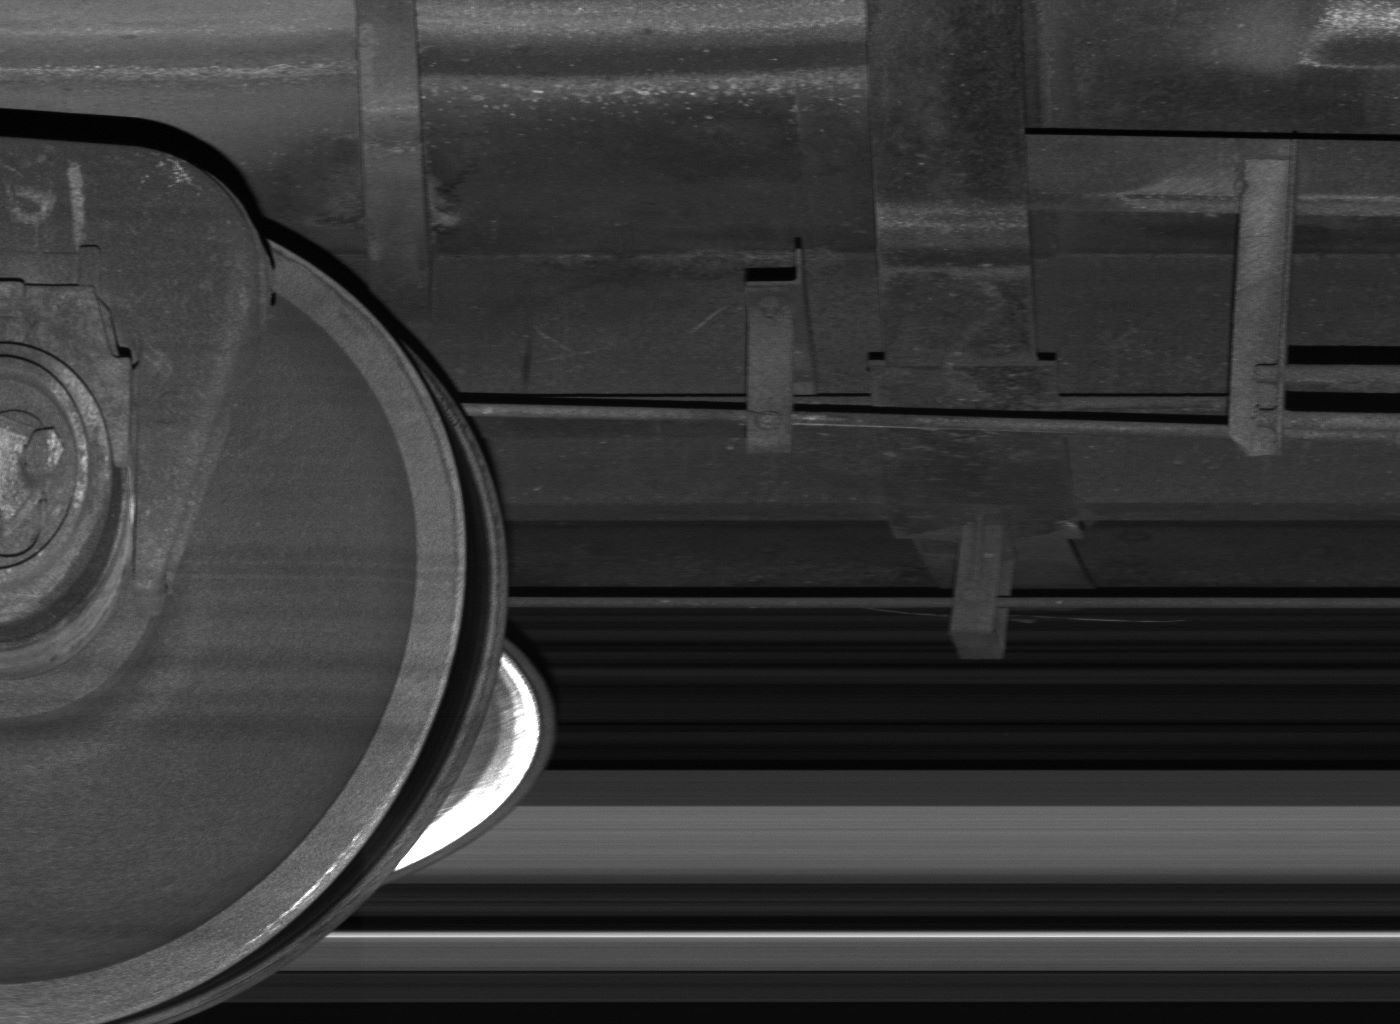normal: (747, 250, 815, 455), (951, 525, 1016, 660)
